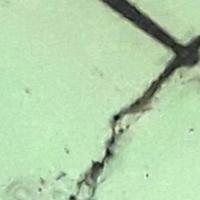crack: (80, 1, 199, 199)
